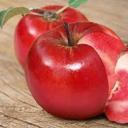apple: (13, 6, 90, 73)
